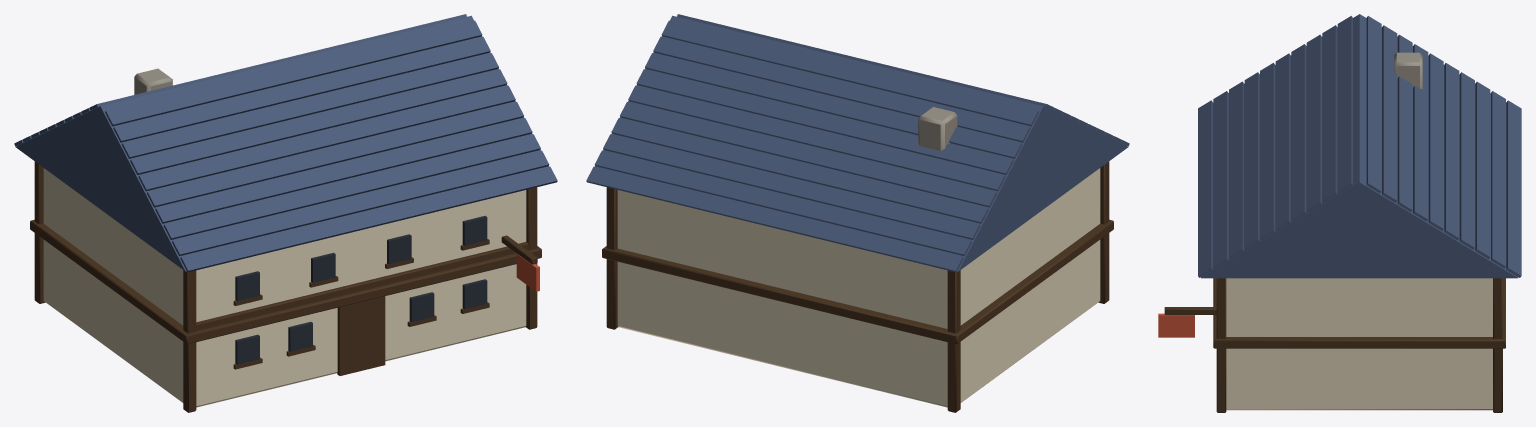
File: inn.glb
3 renders of one model, left to right at view 1: azimuth 30°, elevation 25°; view 2: azimuth 150°, elevation 25°; view 3: azimuth 270°, elevation 25°, orthographic. The views are drawn at different scales.
Parts seen in each view (by area): view 1: building; view 2: building; view 3: building.
Part boxes in pixels (bbox=[...]): building: bbox=[14, 14, 557, 412]; building: bbox=[586, 14, 1129, 412]; building: bbox=[1158, 14, 1521, 412].
Bounding box in the file's own units: 4.9 × 3.2 × 4.46.
